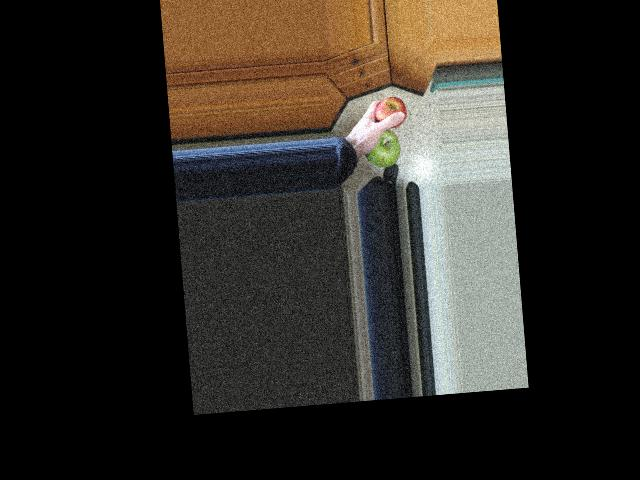apple: (359, 127, 403, 171)
